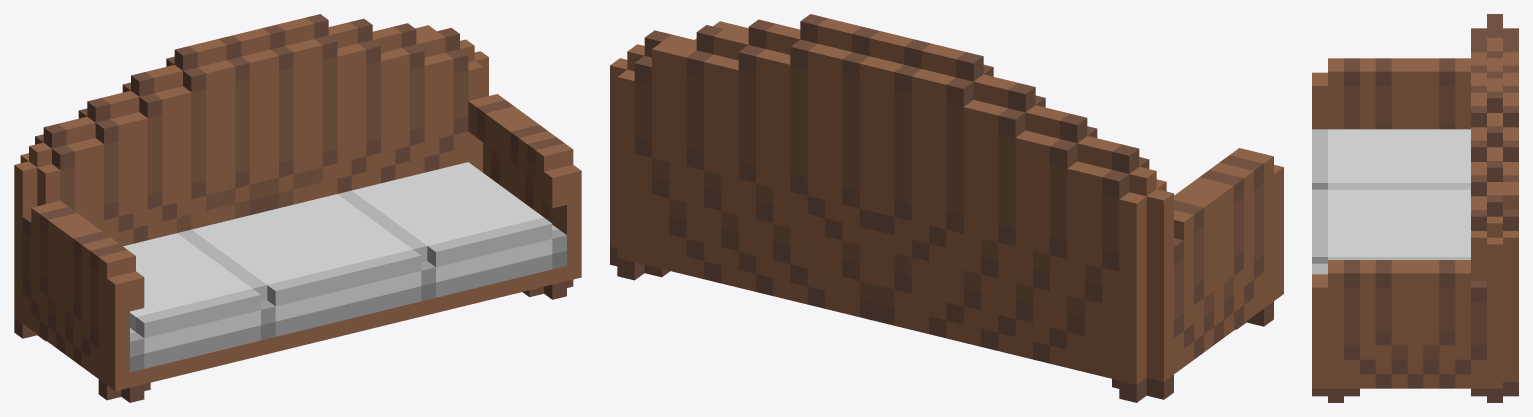
The model's file is Interior_Furniture-66.obj.
3 renders of one model, left to right at view 1: azimuth 30°, elevation 25°; view 2: azimuth 150°, elevation 25°; view 3: azimuth 270°, elevation 25°, orthographic. The views are drawn at different scales.
Bounding box in the file's own units: 3.2 × 1.6 × 1.3.
1 material, 1 textured.
